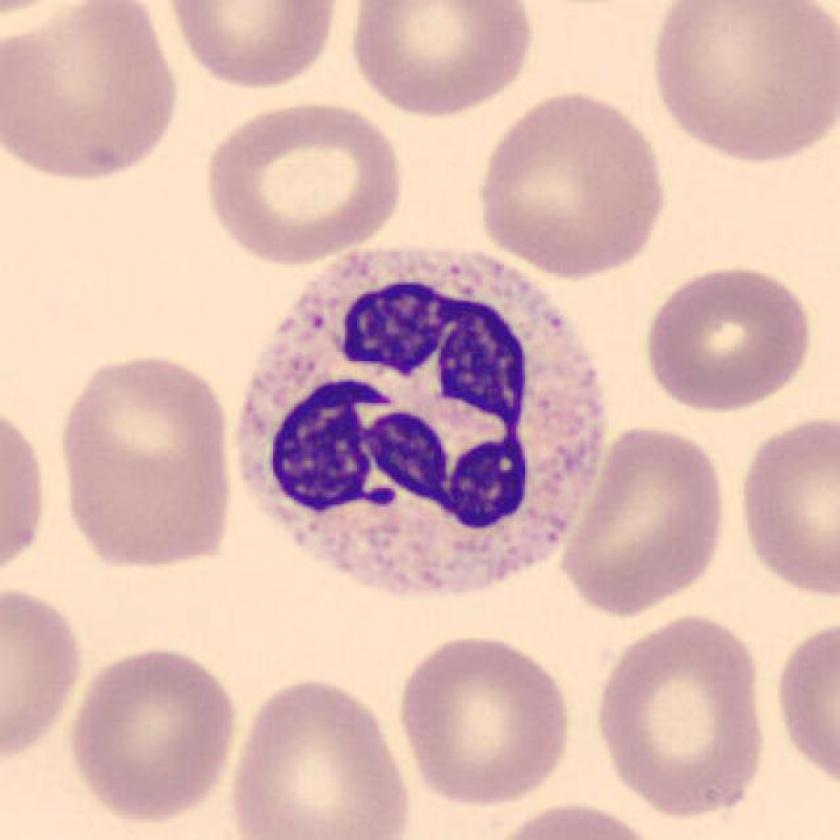neutrophil: (239, 248, 608, 596)
